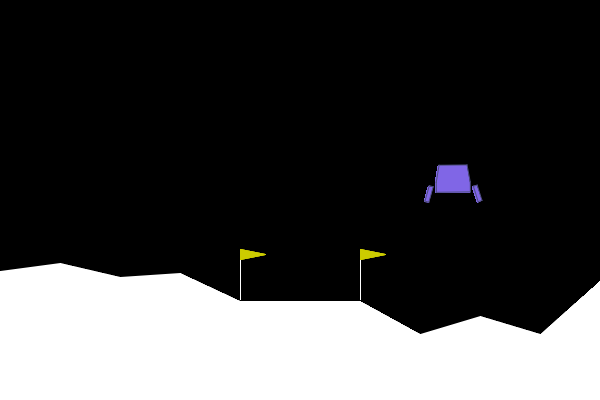lander: (423, 163, 483, 204)
